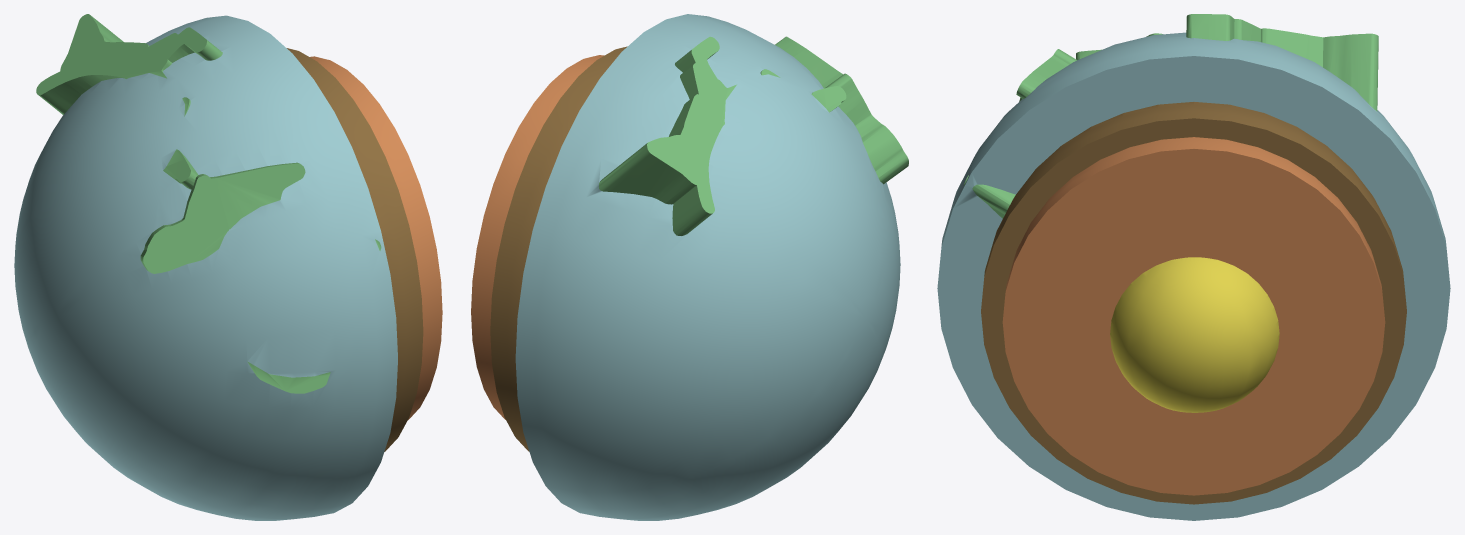
The model's file is jayden_olivas-_earth_layers.glb.
3 views of the same model, side by side, from view 1: azimuth 30°, elevation 25°; view 2: azimuth 150°, elevation 25°; view 3: azimuth 270°, elevation 25° (orthographic).
Parts seen in each view (by area): view 1: Mesh_Mesh_head_geo.001_lambert2SG.001_0; view 2: Mesh_Mesh_head_geo.001_lambert2SG.001_0; view 3: Mesh_Mesh_head_geo.001_lambert2SG.001_0.
Part boxes in pixels (x1,y1,x2,y2): Mesh_Mesh_head_geo.001_lambert2SG.001_0: (14, 14, 442, 520); Mesh_Mesh_head_geo.001_lambert2SG.001_0: (471, 14, 908, 520); Mesh_Mesh_head_geo.001_lambert2SG.001_0: (937, 14, 1450, 520).
Size of the model in its own units: 47.65 by 60.34 by 59.
